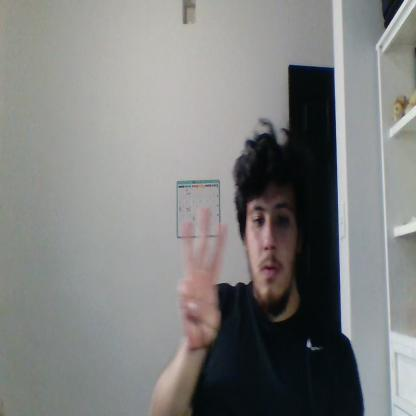W: (177, 211, 226, 348)
